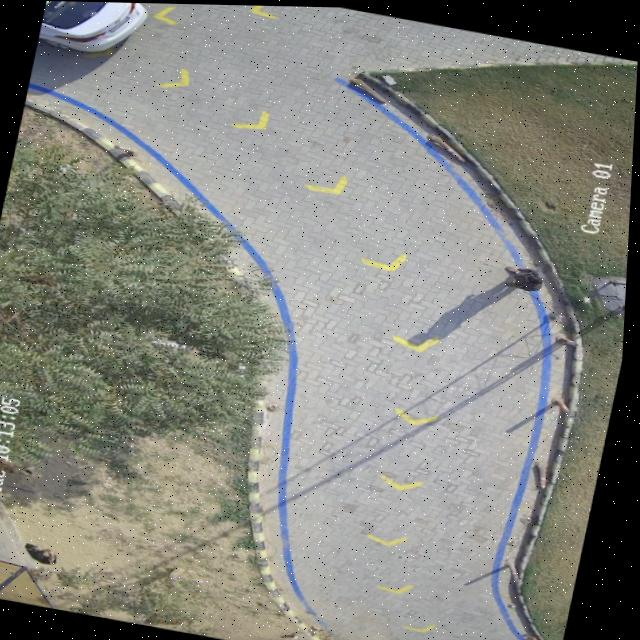car: (40, 1, 147, 51)
